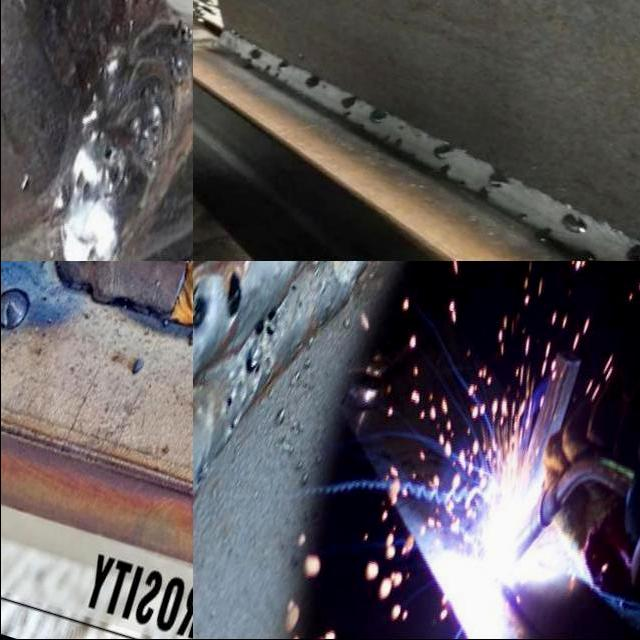defect: (221, 262, 244, 324), (99, 141, 123, 200), (250, 304, 279, 343), (192, 279, 209, 335), (71, 164, 92, 207), (484, 166, 516, 194), (554, 214, 589, 238), (260, 59, 290, 85), (243, 348, 262, 383), (336, 94, 359, 120), (300, 73, 329, 92), (428, 142, 452, 161), (363, 109, 389, 124), (620, 243, 640, 262), (530, 227, 551, 245), (435, 164, 452, 181), (245, 48, 262, 65), (379, 135, 402, 147), (194, 464, 206, 487), (473, 186, 490, 201), (578, 250, 596, 262), (287, 279, 298, 294), (512, 211, 528, 221), (293, 293, 302, 310), (225, 394, 232, 410), (455, 178, 465, 188), (396, 124, 406, 133), (228, 421, 234, 431)
